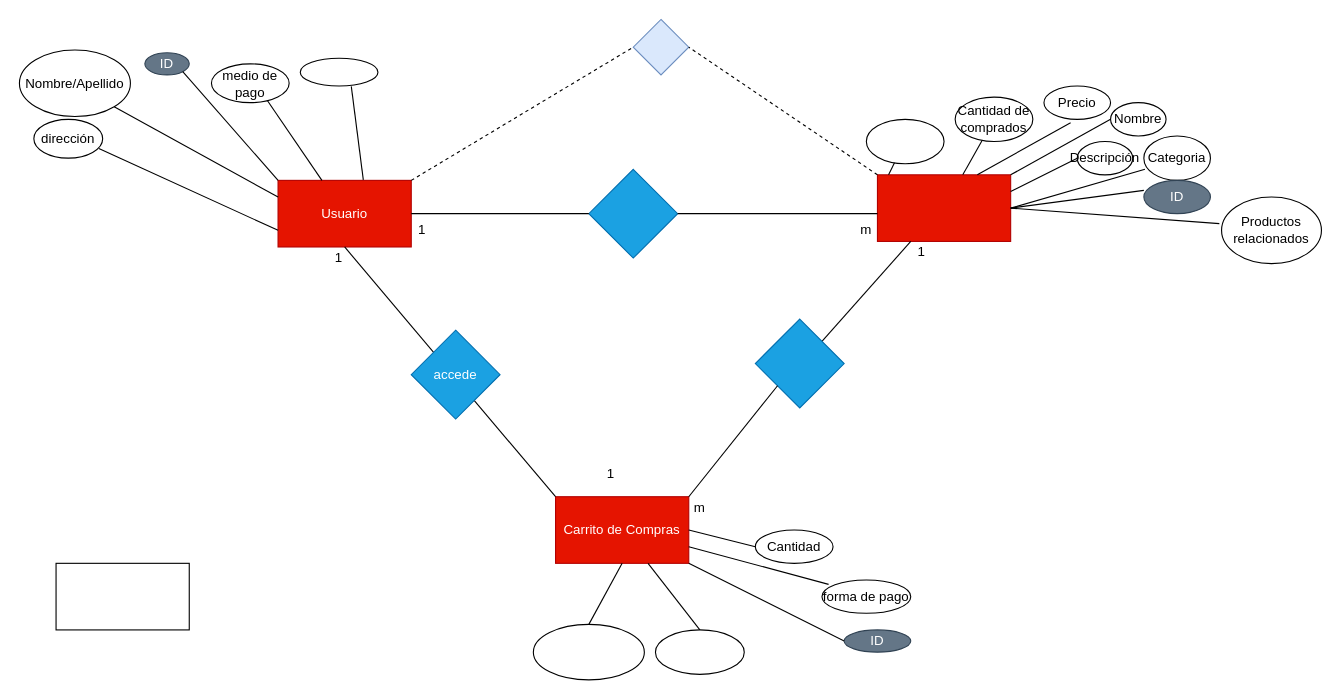
Image size: 1341x699. Some labels were removed from this diagram. Here are the shapes that lost their labels. From the top down, the box of each, then its label:
(632, 18, 689, 75): Vende
(299, 57, 378, 86): contacto
(865, 118, 944, 164): puntuación y comentarios
(588, 168, 678, 258): compra
(876, 174, 1011, 241): Articulo
(754, 318, 844, 408): dentro
(55, 562, 189, 630): Listado de Articulos
(532, 623, 644, 680): costo(total,sub-total)
(654, 629, 744, 674): envio
